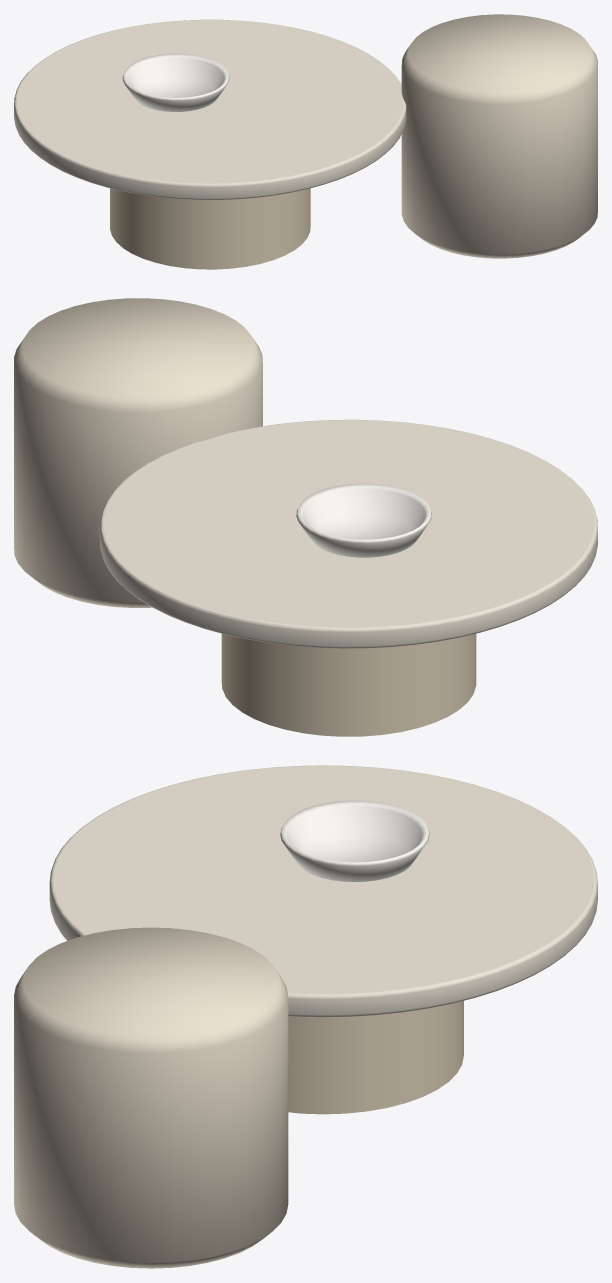
File: mo_coffee_table.glb
3 renders of one model, top to bottom at view 1: azimuth 30°, elevation 25°; view 2: azimuth 150°, elevation 25°; view 3: azimuth 270°, elevation 25°, orthographic. The views are drawn at different scales.
Parts seen in each view (by area): view 1: top, drum, base, bowl; view 2: top, drum, base, bowl; view 3: top, drum, base, bowl.
Boxes of the visible parts, left/top/right/bottom form: top: left=14, top=19, right=406, bottom=199; drum: left=401, top=14, right=597, bottom=258; base: left=110, top=188, right=310, bottom=269; bowl: left=122, top=53, right=229, bottom=111; top: left=99, top=419, right=597, bottom=648; drum: left=14, top=298, right=262, bottom=607; base: left=221, top=633, right=476, bottom=736; bowl: left=296, top=483, right=431, bottom=557; top: left=49, top=765, right=597, bottom=1017; drum: left=14, top=927, right=288, bottom=1268; base: left=288, top=1000, right=463, bottom=1114; bowl: left=280, top=800, right=429, bottom=881.
Size of the model in its own units: 1.25 by 0.42 by 0.937.
